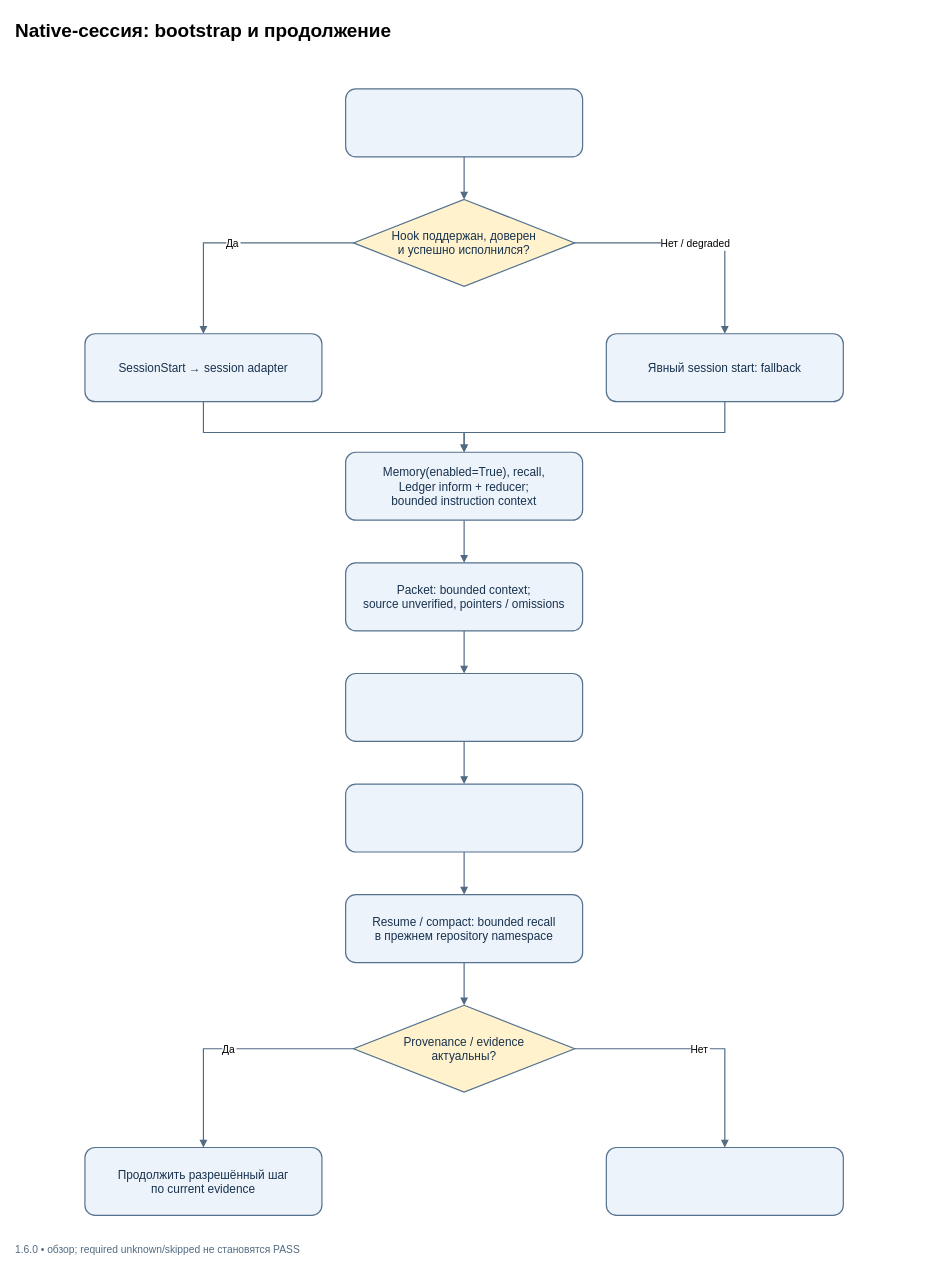
This 927x1275 diagram has some shape labels left out. Here are the shapes that lost their labels. From the top down, the box of each, then its label:
(345, 88, 583, 157): Новая сессия: root / native ID
(345, 673, 583, 742): Codex: текущая цель / разрешённая работа
(345, 783, 583, 852): Checkpoint + evidence SHA256; явный goal update при изменении
(605, 1147, 844, 1216): Retrieval и применимые проверки; история не становится PASS
